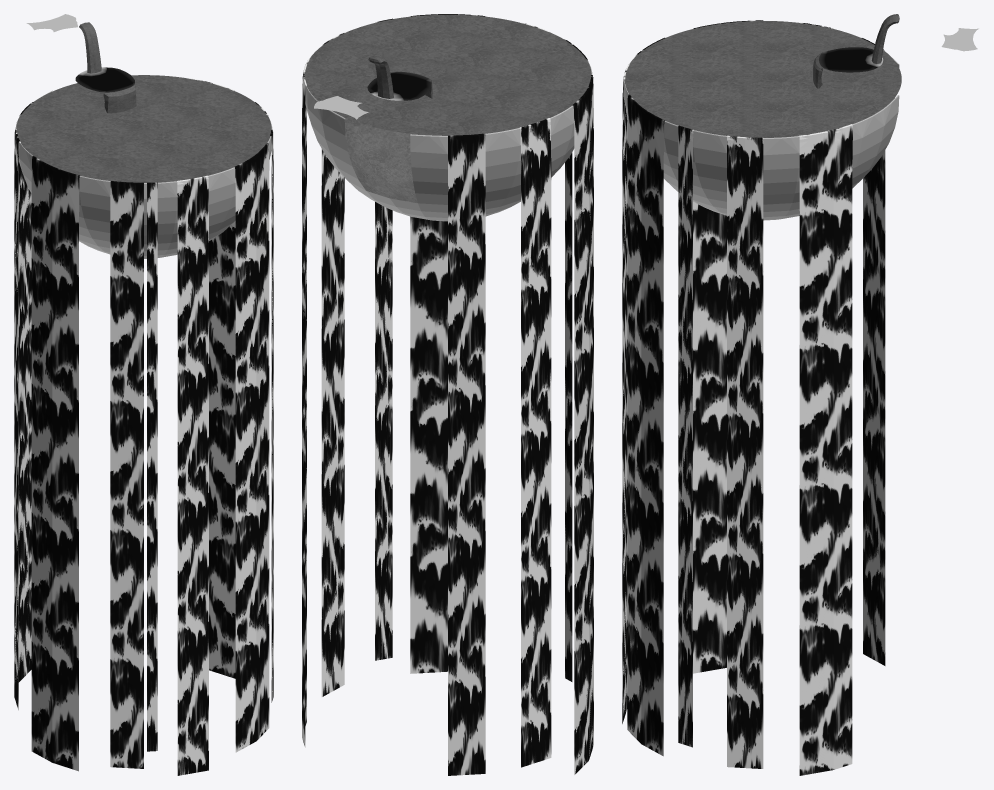
Rendered from HeavenlyBeachPlanetWater.dae.
The picture shows the model from 3 angles, left to right: view 1: azimuth 30°, elevation 25°; view 2: azimuth 150°, elevation 25°; view 3: azimuth 270°, elevation 25°; orthographic projection. The views are drawn at different scales.
Visible parts, largest first — view 1: m0, m1, m2, m4, m3, m6, m7; view 2: m0, m2, m1, m4, m3, m5, m6, m7; view 3: m0, m1, m2, m4, m3, m6, m7.
Part boxes in pixels (x1,y1,x2,y2): m0: (14,78,273,775); m1: (14,78,273,774); m2: (16,75,271,182); m4: (15,75,272,258); m3: (17,75,270,182); m6: (26,14,134,92); m7: (79,22,136,113); m0: (302,14,593,775); m2: (305,14,591,135); m1: (302,14,593,773); m4: (305,35,592,221); m3: (305,15,590,135); m5: (339,115,425,203); m6: (314,71,431,119); m7: (368,56,432,98); m0: (622,20,885,775); m1: (622,20,885,768); m2: (624,21,901,137); m4: (623,50,899,220); m3: (625,21,901,137); m6: (819,28,978,72); m7: (813,14,899,88).
Bounding box in the file's own units: 14634 × 40769 × 18548.
